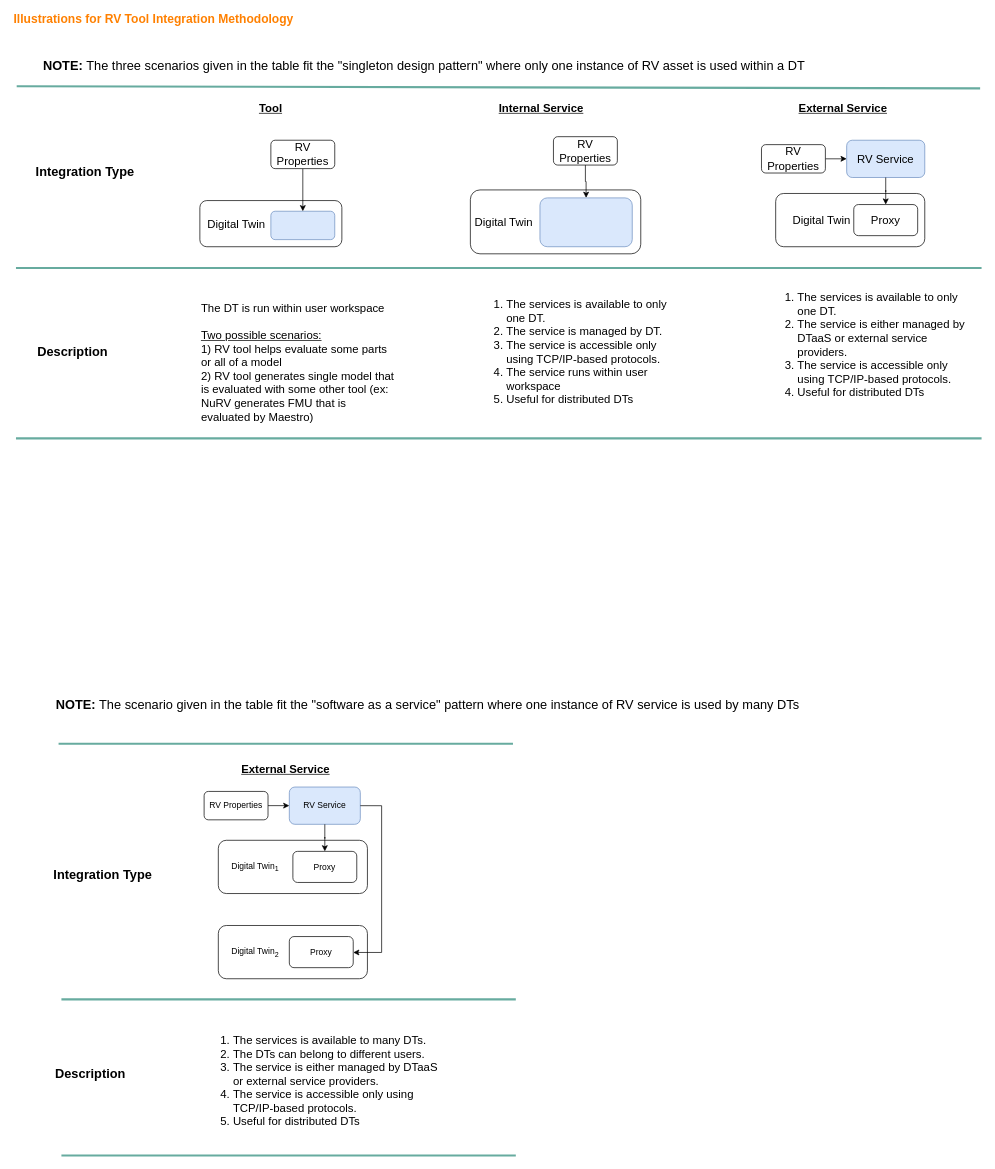
This 995x1169 diagram has some shape labels left out. The centre of each missing label's shape, as x and y in pixels:
RV service asset as Internal Service: pixel 585 222
RV tool asset: pixel 302 225
